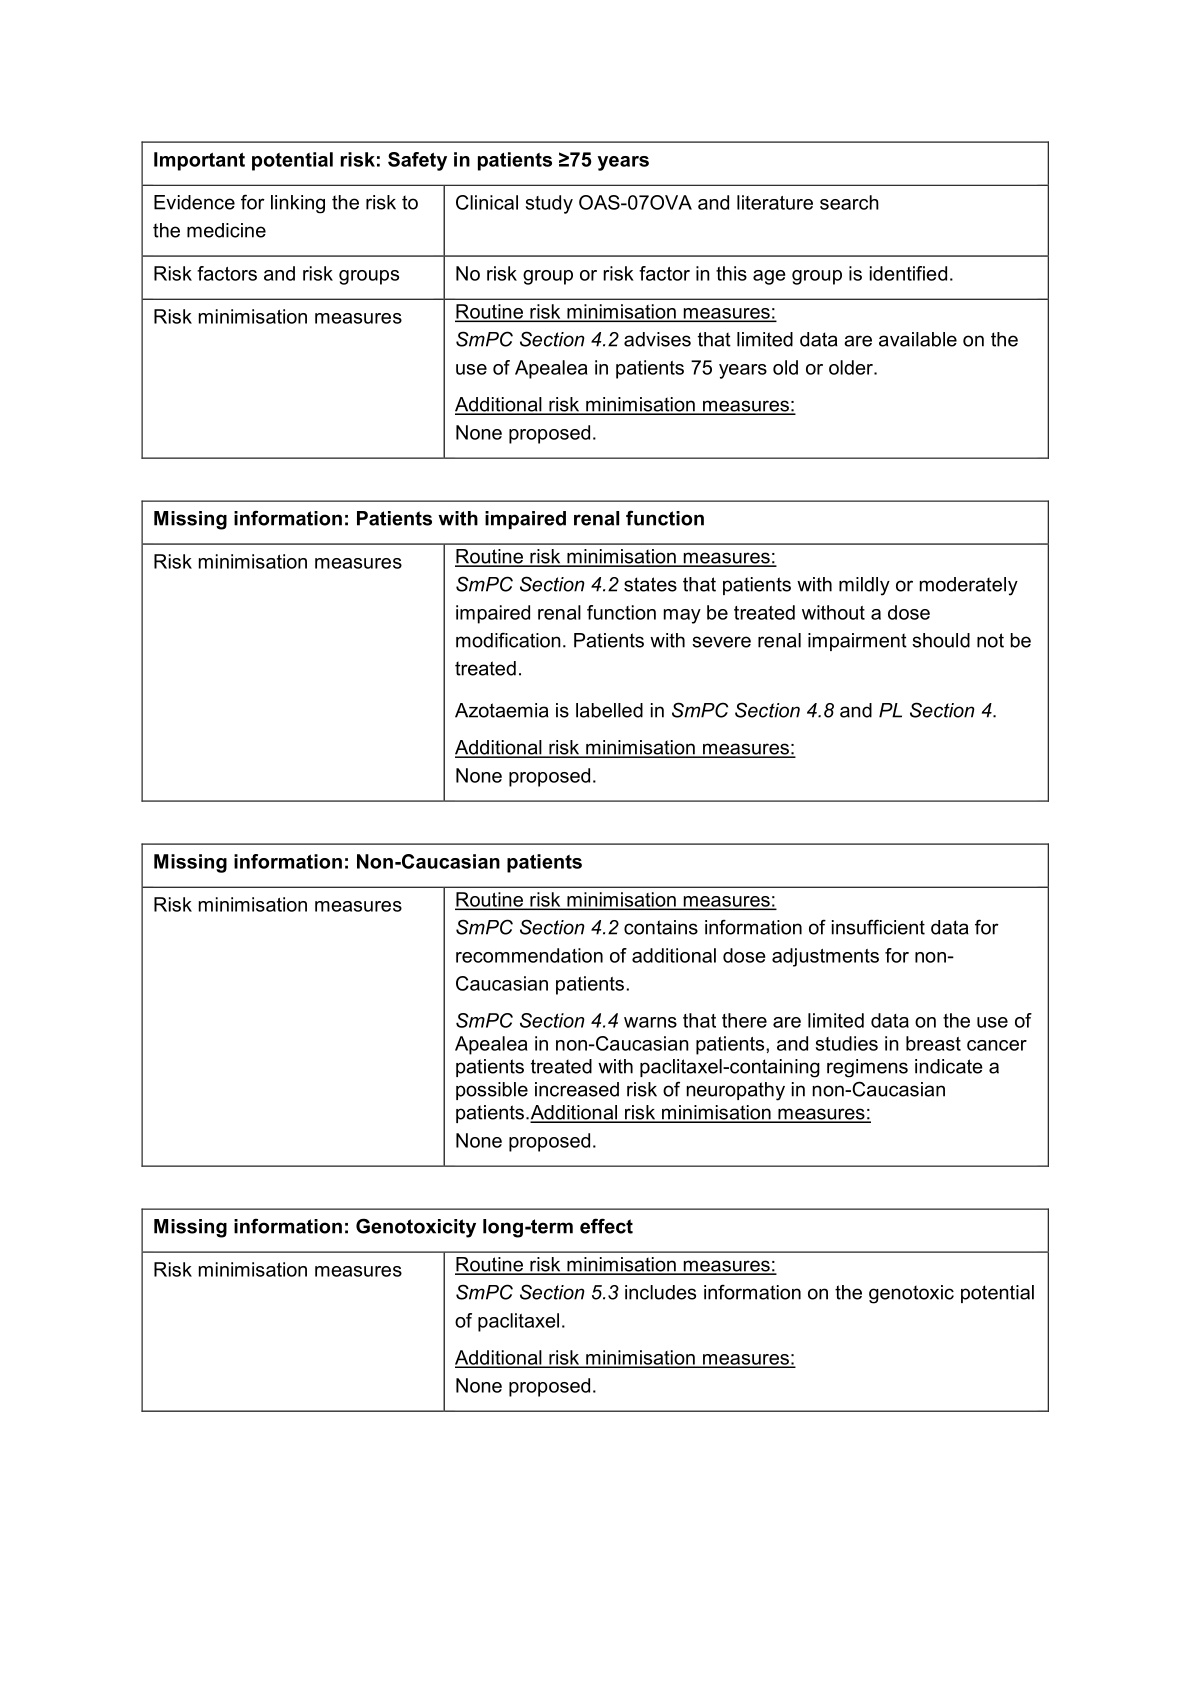merged_cells: (140, 843, 1051, 1169), (140, 140, 1049, 459), (140, 500, 1051, 801), (140, 1209, 1051, 1413)
